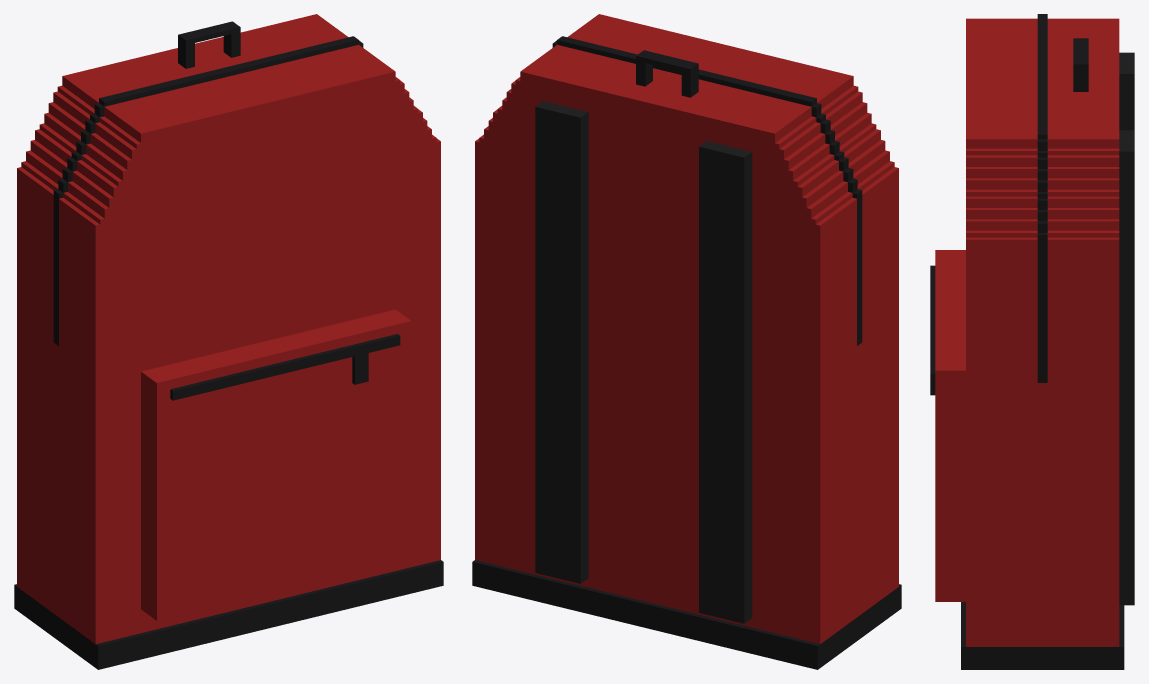
Rendered from daypack.glb.
3 renders of one model, left to right at view 1: azimuth 30°, elevation 25°; view 2: azimuth 150°, elevation 25°; view 3: azimuth 270°, elevation 25°, orthographic. The views are drawn at different scales.
Visible parts, largest first — view 1: daypack:compound; view 2: daypack:compound; view 3: daypack:compound.
Part boxes in pixels (left/top/right/bottom): daypack:compound: left=14, top=14, right=443, bottom=669; daypack:compound: left=472, top=14, right=901, bottom=669; daypack:compound: left=930, top=14, right=1134, bottom=669.
Bounding box in the file's own units: 0.304 × 0.464 × 0.16.
